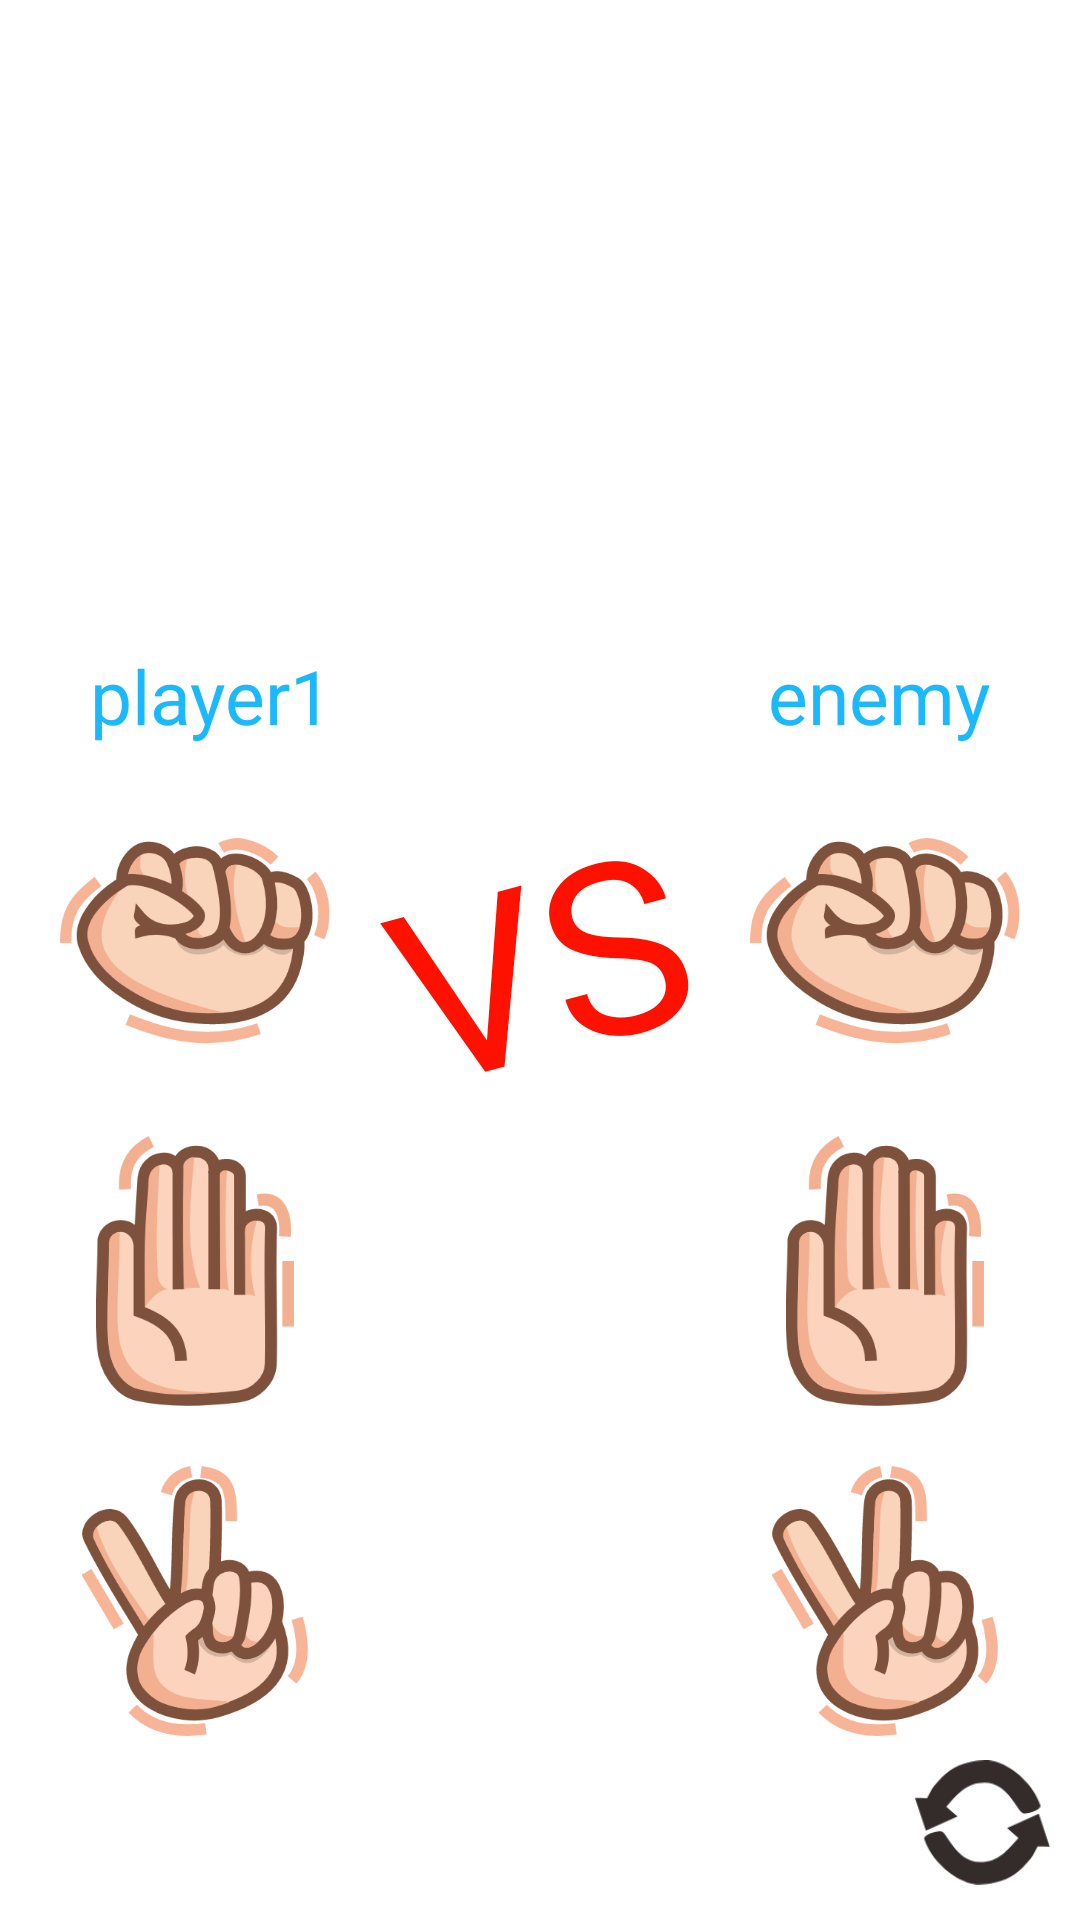

Named icons in this screenshot (1080w x 1920h) and their centers, (x,y):
batu: (195,940), (885,940)
gunting: (195,1601), (885,1601)
kertas: (195,1271), (885,1271)
refresh: (982,1822)
